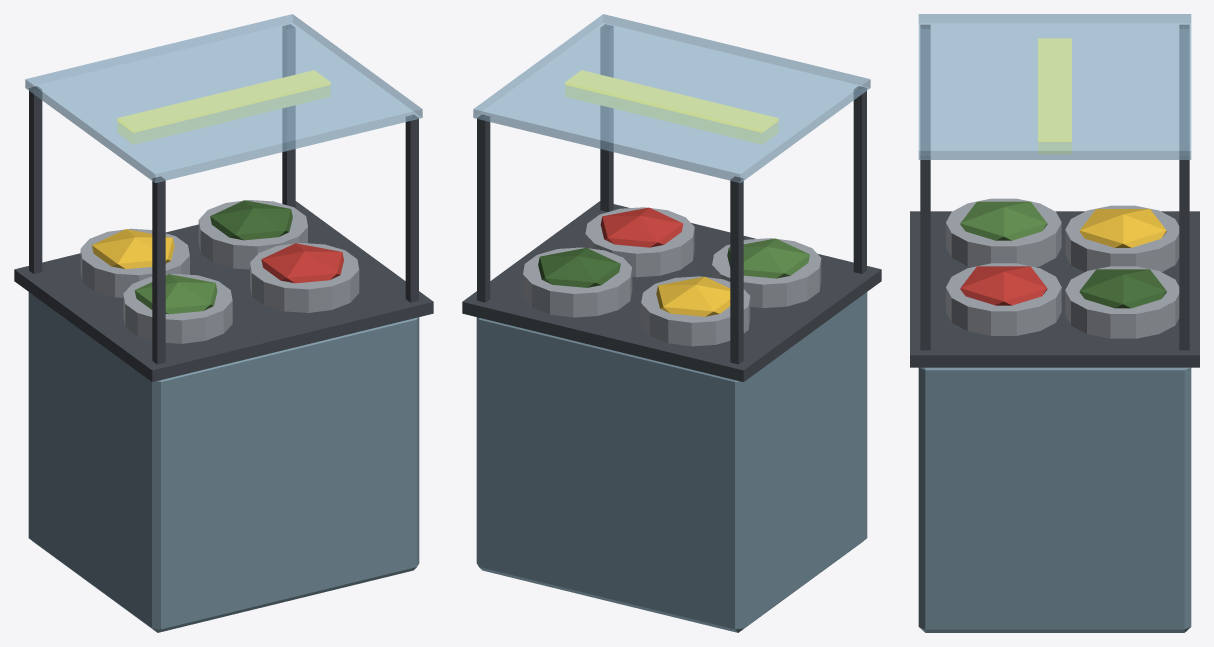
File: salad_bar.glb
3 renders of one model, left to right at view 1: azimuth 30°, elevation 25°; view 2: azimuth 150°, elevation 25°; view 3: azimuth 270°, elevation 25°, orthographic. The views are drawn at different scales.
Visible parts, largest first — view 1: salad_bar_mesh; view 2: salad_bar_mesh; view 3: salad_bar_mesh.
Boxes of the visible parts, x1,y1,x2,y2 form: salad_bar_mesh: [14, 14, 433, 632]; salad_bar_mesh: [462, 14, 881, 632]; salad_bar_mesh: [910, 14, 1199, 632].
Size of the model in its own units: 1 by 1.57 by 0.85.
